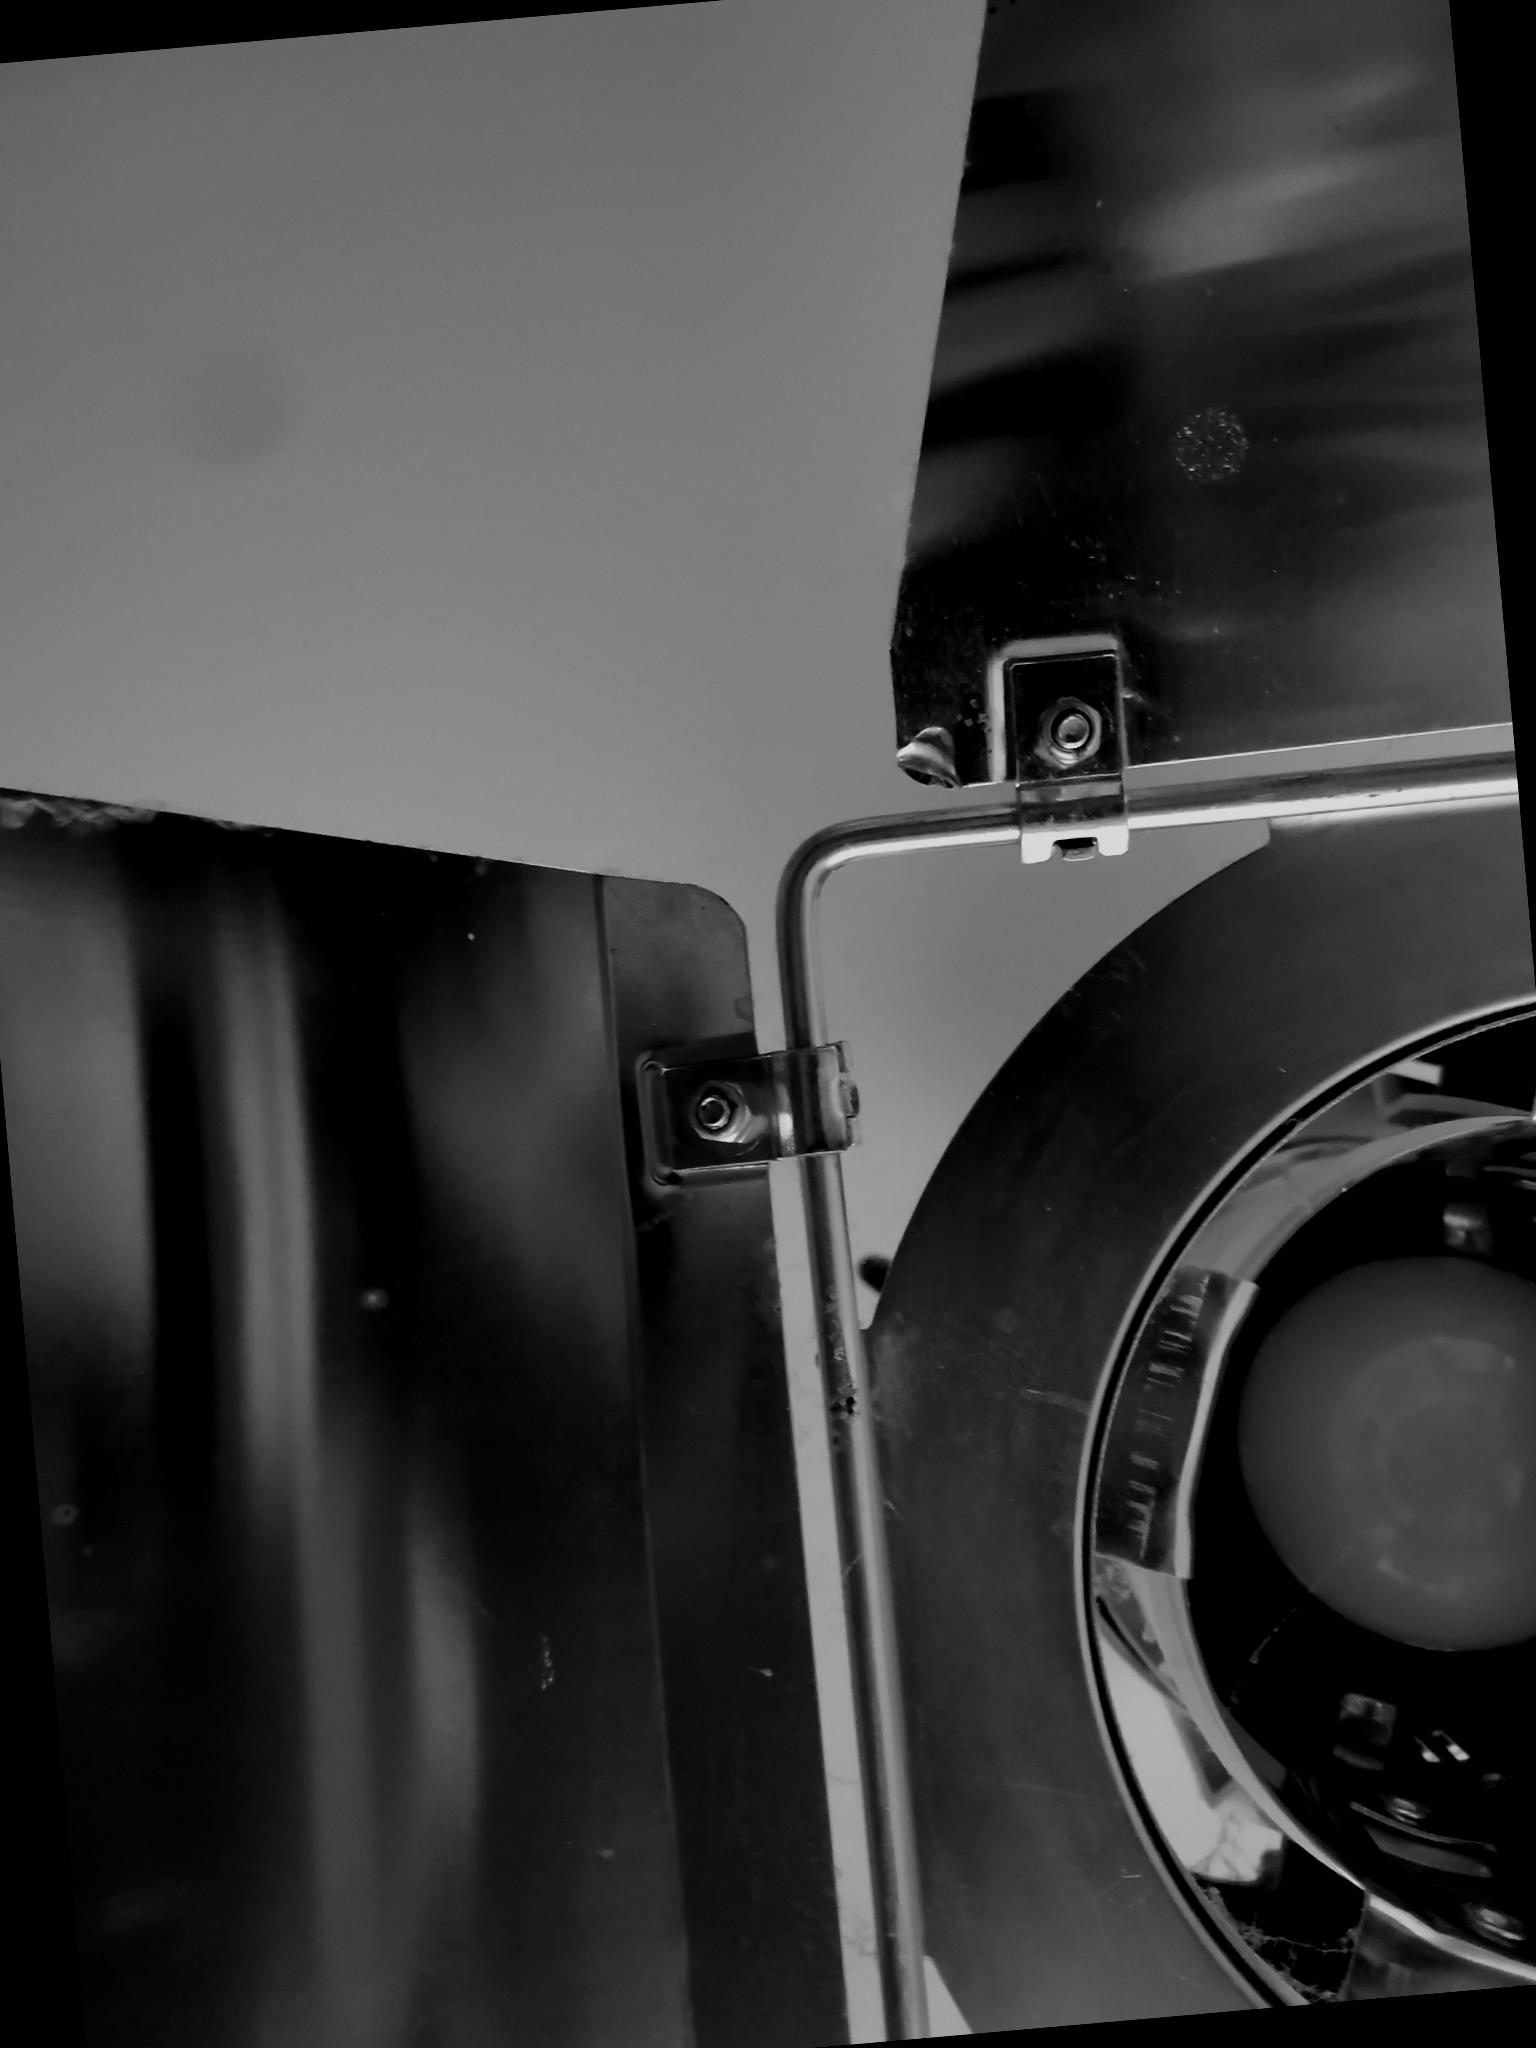hexagonal: (1025, 687, 1113, 776), (679, 1066, 763, 1150)
